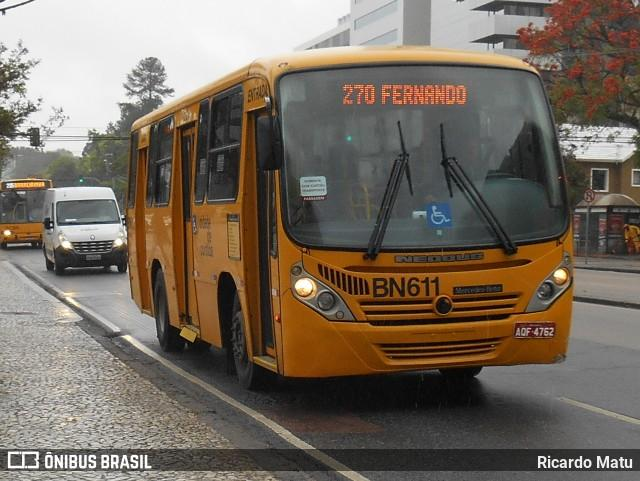FERNANDO: (377, 80, 476, 109)
